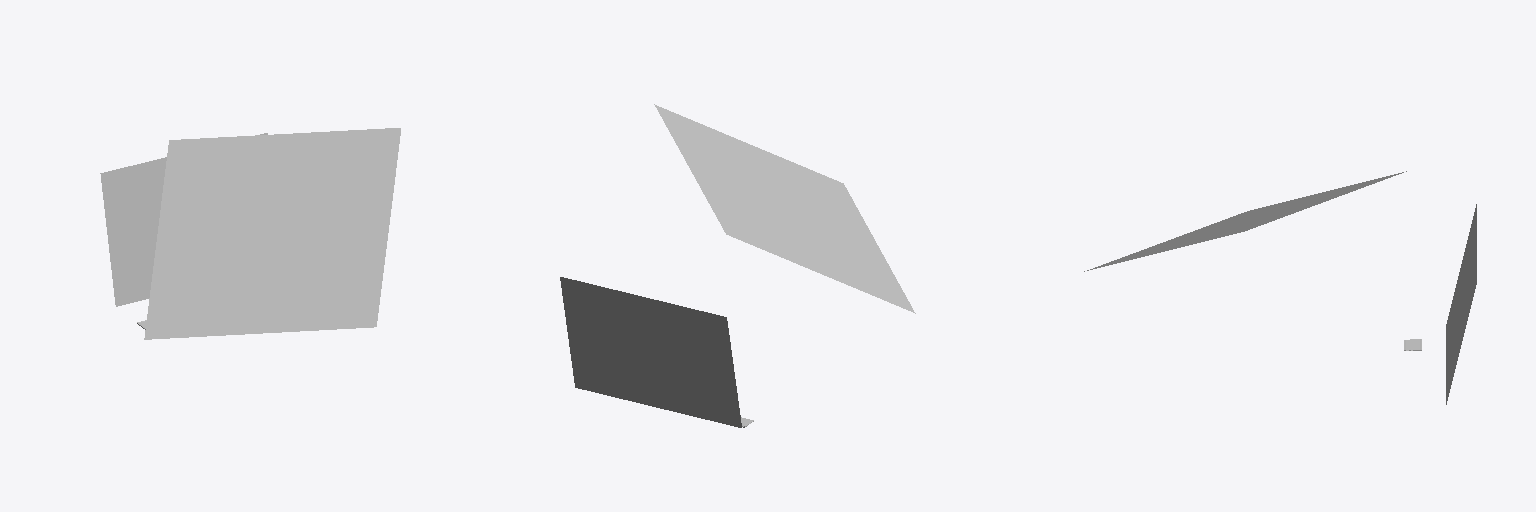
The model's file is laptop.obj.
3 views of the same model, side by side, from view 1: azimuth 30°, elevation 25°; view 2: azimuth 150°, elevation 25°; view 3: azimuth 270°, elevation 25° (orthographic).
Visible parts, largest first — view 1: Plane.028_Plane.024, Plane.075_Plane.086; view 2: Plane.028_Plane.024, Plane.075_Plane.086; view 3: Plane.028_Plane.024, Plane.075_Plane.086.
Boxes of the visible parts, x1,y1,x2,y2 form: Plane.028_Plane.024: [144, 128, 400, 339]; Plane.075_Plane.086: [100, 133, 267, 306]; Plane.028_Plane.024: [654, 104, 915, 313]; Plane.075_Plane.086: [560, 277, 741, 427]; Plane.028_Plane.024: [1084, 171, 1406, 271]; Plane.075_Plane.086: [1446, 204, 1476, 404].
Size of the model in its own units: 10.6 by 8.47 by 13.92.